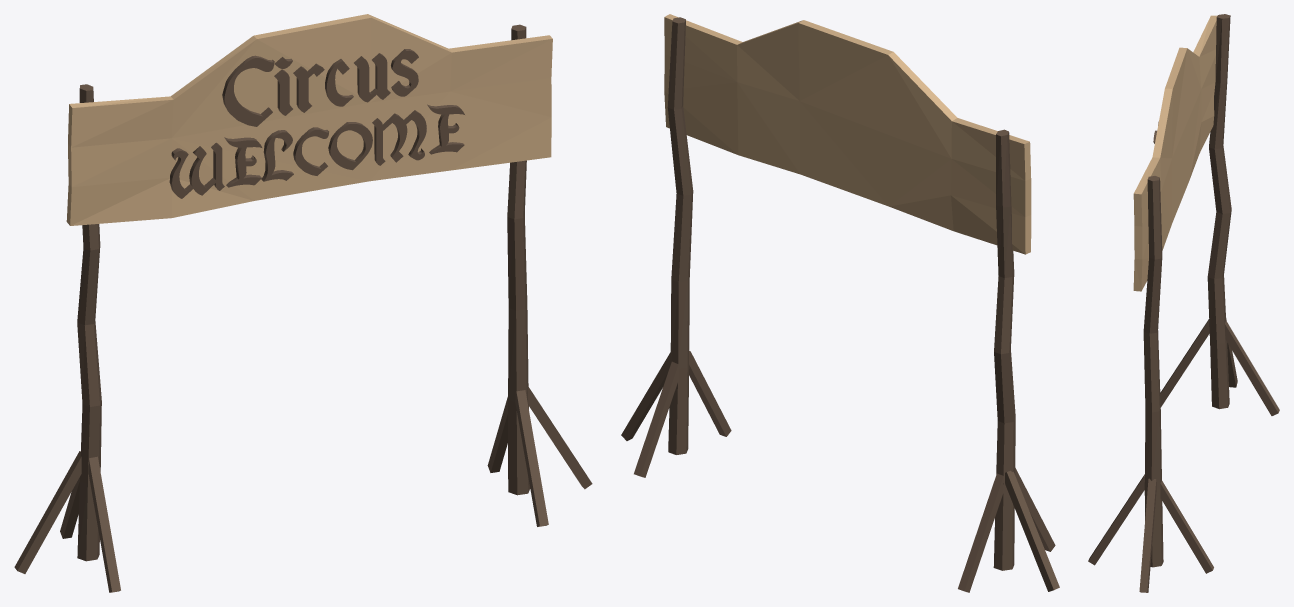
File: welcome_to_the_circus_gate (1).glb
3 views of the same model, side by side, from view 1: azimuth 30°, elevation 25°; view 2: azimuth 150°, elevation 25°; view 3: azimuth 270°, elevation 25° (orthographic). The views are drawn at different scales.
Parts seen in each view (by area): view 1: gate_gate_0; view 2: gate_gate_0; view 3: gate_gate_0.
Boxes of the visible parts, left/top/right/bottom form: gate_gate_0: left=14, top=14, right=592, bottom=592; gate_gate_0: left=621, top=14, right=1059, bottom=592; gate_gate_0: left=1088, top=14, right=1279, bottom=592.
Bounding box in the file's own units: 532 × 496 × 204.
Materials: 1 (1 with a texture image).
